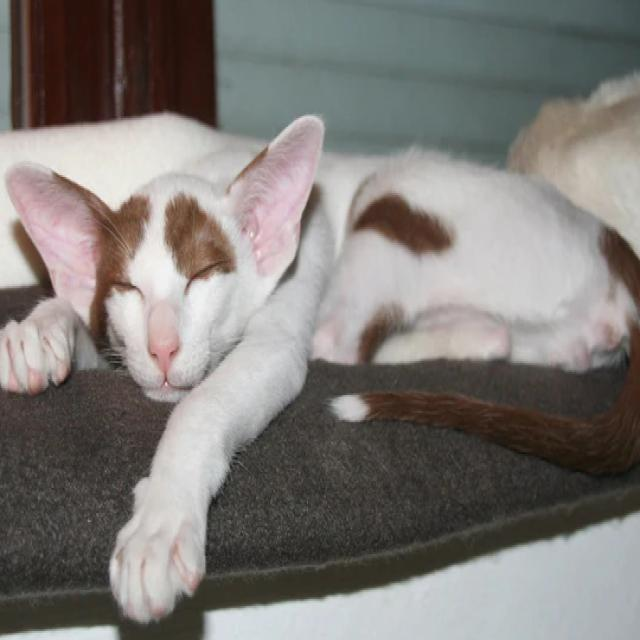Oriental: (0, 107, 640, 631)
